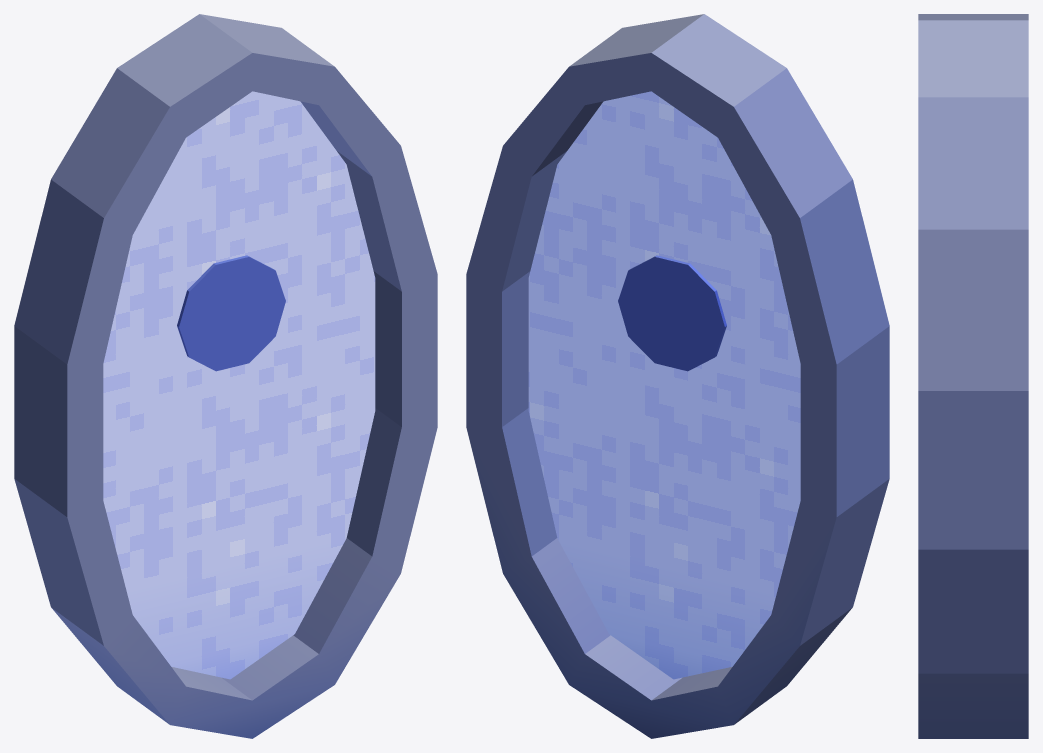
Rendered from arch.door.glb.
The picture shows the model from 3 angles, left to right: view 1: azimuth 30°, elevation 25°; view 2: azimuth 150°, elevation 25°; view 3: azimuth 270°, elevation 25°; orthographic projection. The views are drawn at different scales.
Parts seen in each view (by area): view 1: kit_door_leaf, kit_door_frame; view 2: kit_door_leaf, kit_door_frame; view 3: kit_door_frame.
Part boxes in pixels (box(x1,y1,x2,y2)): kit_door_leaf: box(103, 91, 375, 679); kit_door_frame: box(14, 14, 437, 738); kit_door_leaf: box(528, 91, 800, 679); kit_door_frame: box(466, 14, 889, 738); kit_door_frame: box(918, 14, 1028, 738).
Size of the model in its own units: 1.21 by 2.14 by 0.3.
3 materials, 1 textured.
